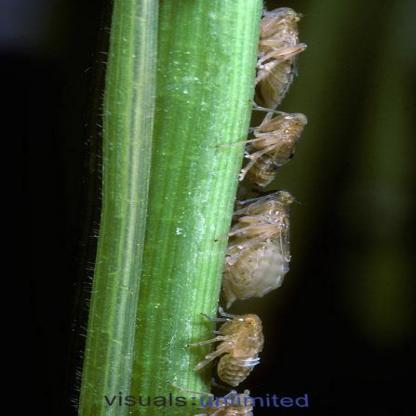brown-planthopper: (232, 199, 299, 303), (258, 8, 301, 104), (256, 108, 308, 185), (210, 316, 260, 386)
